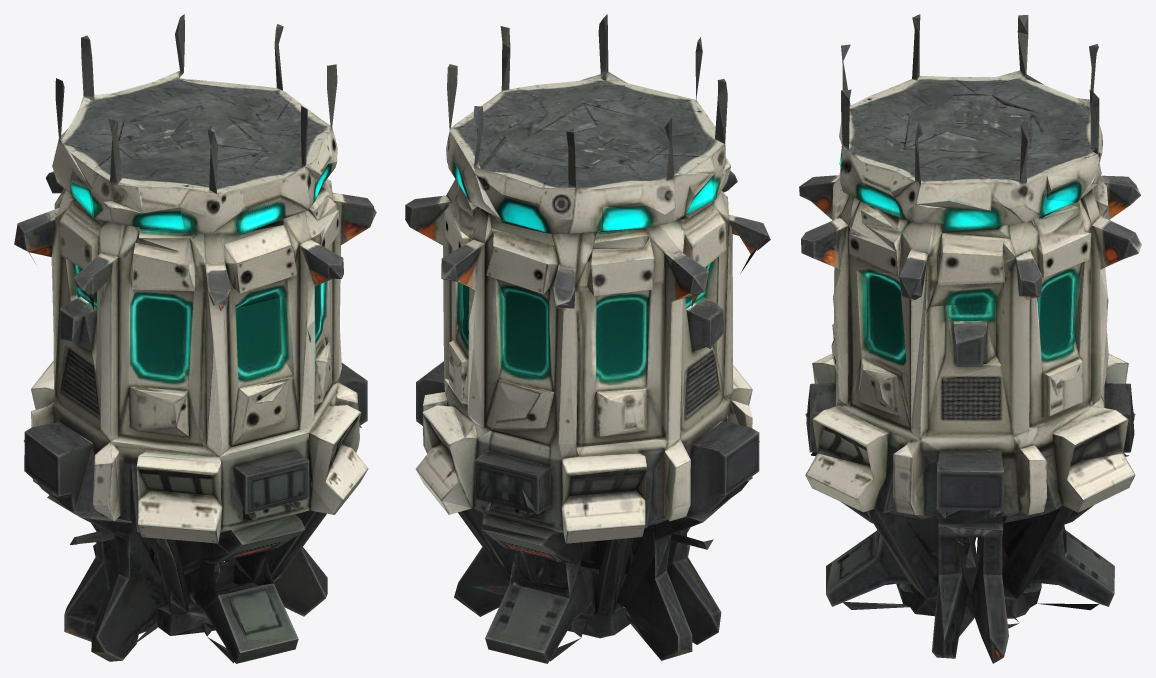
File: facility-command.glb
3 views of the same model, side by side, from view 1: azimuth 30°, elevation 25°; view 2: azimuth 150°, elevation 25°; view 3: azimuth 270°, elevation 25° (orthographic).
Size of the model in its own units: 1.1 by 1.9 by 1.07.
Materials: 1 (1 with a texture image).
